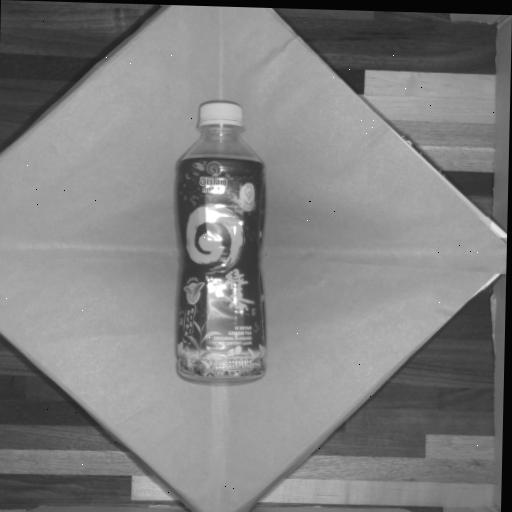bottle: (177, 102, 265, 379)
